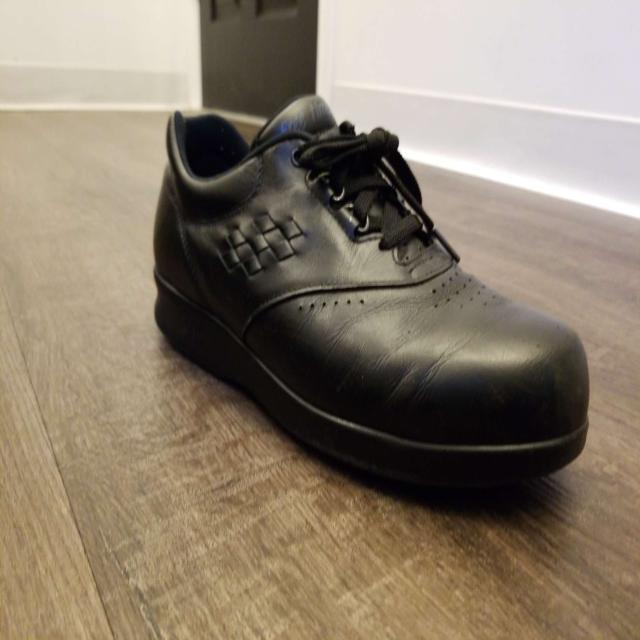shoe: (152, 90, 591, 484)
